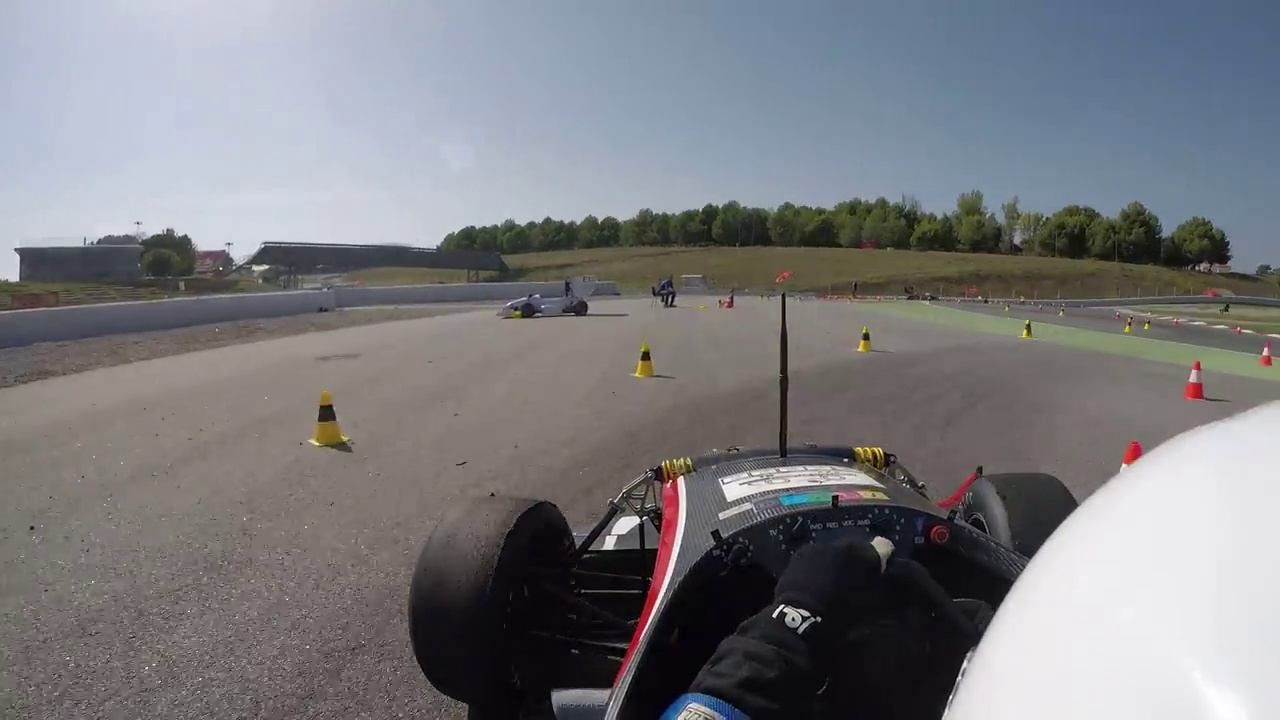Cone: (311, 389, 352, 448), (1181, 358, 1209, 403), (634, 341, 658, 380), (857, 326, 876, 353)
